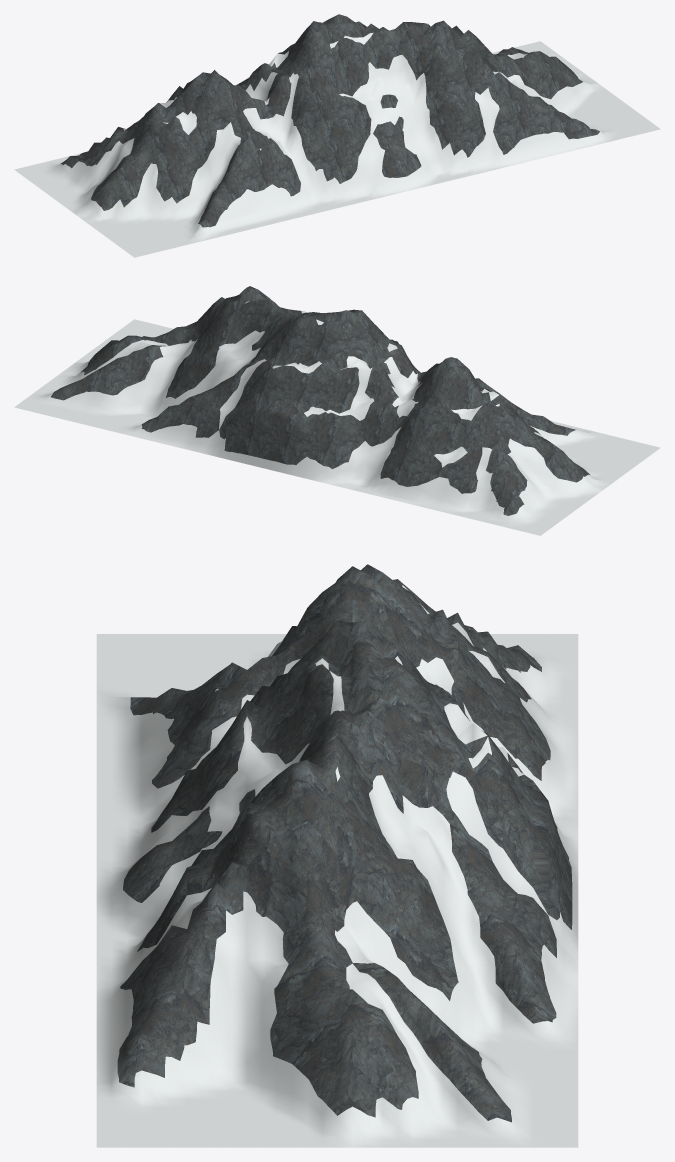
3 renders of one model, top to bottom at view 1: azimuth 30°, elevation 25°; view 2: azimuth 150°, elevation 25°; view 3: azimuth 270°, elevation 25°, orthographic. The views are drawn at different scales.
Visible parts, largest first — view 1: Mesh_rock, Mesh_snow; view 2: Mesh_rock, Mesh_snow; view 3: Mesh_rock, Mesh_snow.
Part boxes in pixels (x1,y1,x2,y2): Mesh_rock: [60, 14, 599, 227]; Mesh_snow: [14, 20, 660, 257]; Mesh_rock: [51, 286, 589, 515]; Mesh_snow: [14, 301, 660, 535]; Mesh_rock: [117, 564, 572, 1122]; Mesh_snow: [96, 585, 578, 1147].
Bounding box in the file's own units: 106 × 24.43 × 42.
2 materials, 2 textured.
